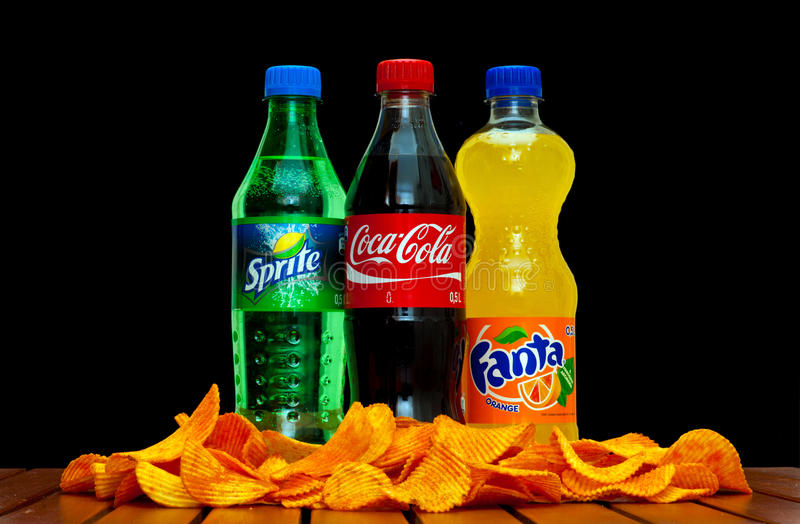fanta: (471, 76, 579, 428)
